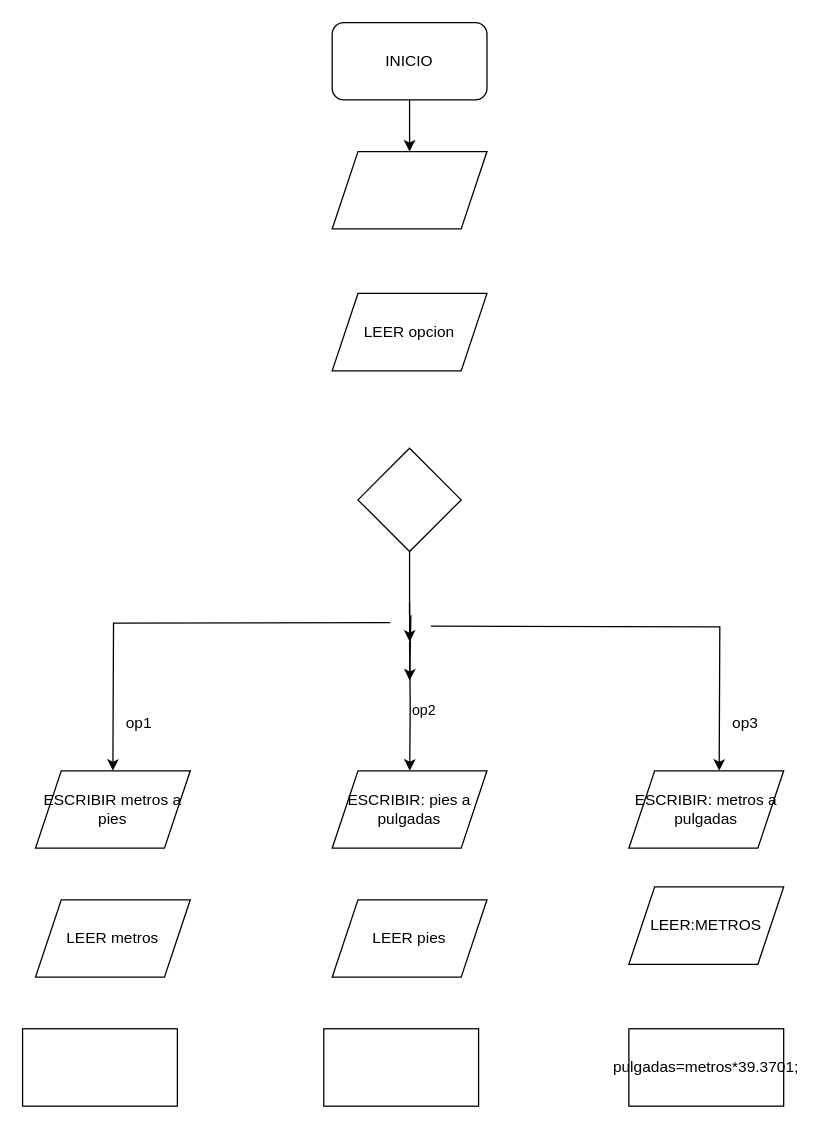
This 822x1129 diagram has some shape labels left out. Here are the shapes that lost their labels. From the top down, the box of each, then its label:
(331, 150, 487, 229): :ESCRIBIR:Metros a Pies 2: Pies a Pulgadas 3: Metros a Pulgadas
(357, 447, 461, 551): opcion
